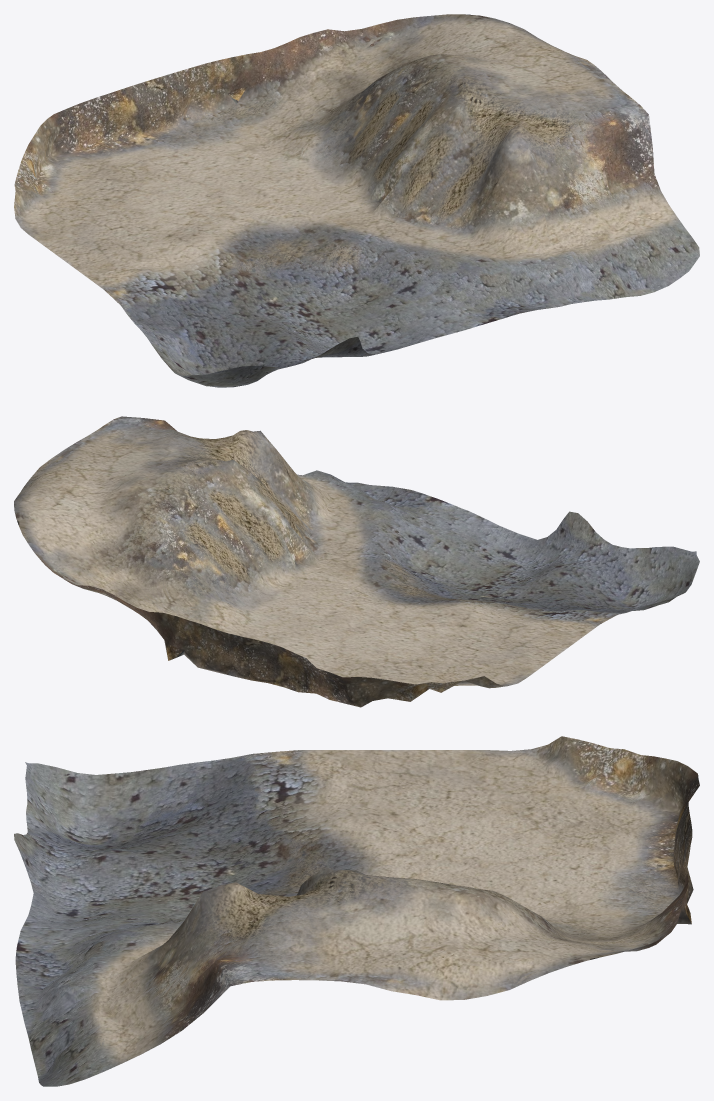
The model's file is bujama.gltf.
3 renders of one model, top to bottom at view 1: azimuth 30°, elevation 25°; view 2: azimuth 150°, elevation 25°; view 3: azimuth 270°, elevation 25°, orthographic. The views are drawn at different scales.
Visible parts, largest first — view 1: Plane; view 2: Plane; view 3: Plane.
Part boxes in pixels (x1,y1,x2,y2): Plane: (14, 14, 699, 387); Plane: (14, 416, 699, 707); Plane: (14, 736, 699, 1086).
Bounding box in the file's own units: 20.85 × 5.22 × 18.07.
1 material, 1 textured.
